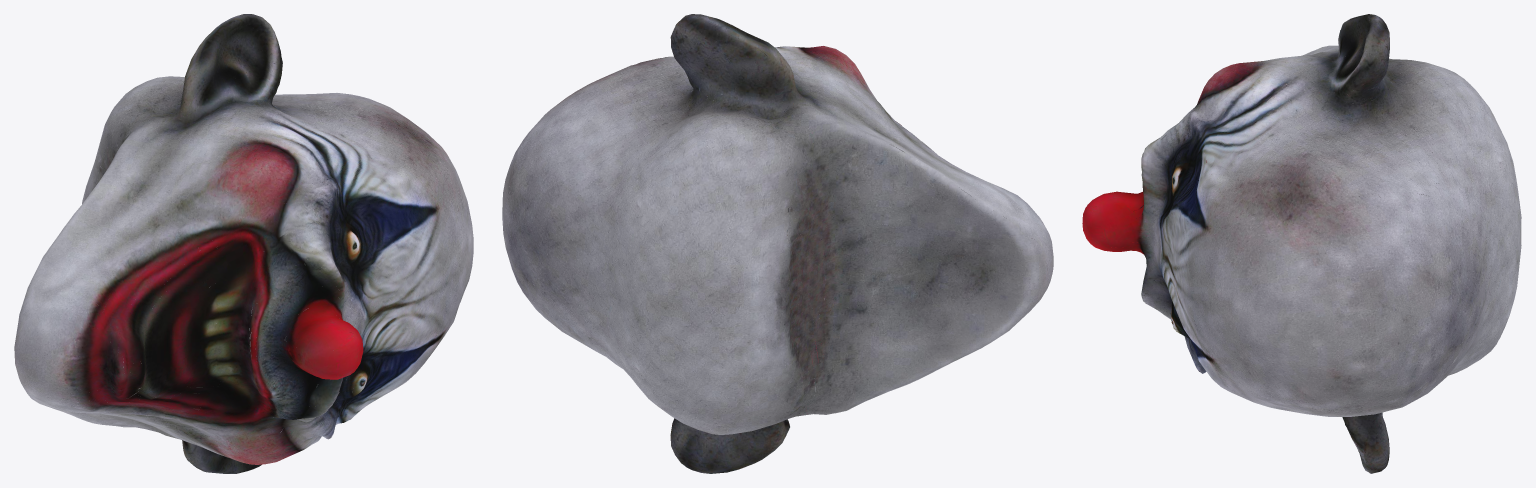
File: scream_face.glb
3 renders of one model, left to right at view 1: azimuth 30°, elevation 25°; view 2: azimuth 150°, elevation 25°; view 3: azimuth 270°, elevation 25°, orthographic.
Parts seen in each view (by area): view 1: Tip; view 2: Tip; view 3: Tip.
Boxes of the visible parts, <box> form: Tip: <box>14,14,473,473</box>; Tip: <box>502,14,1053,473</box>; Tip: <box>1082,14,1521,473</box>.
Bounding box in the file's own units: 1 × 0.9093 × 0.8065.
1 material, 1 textured.
